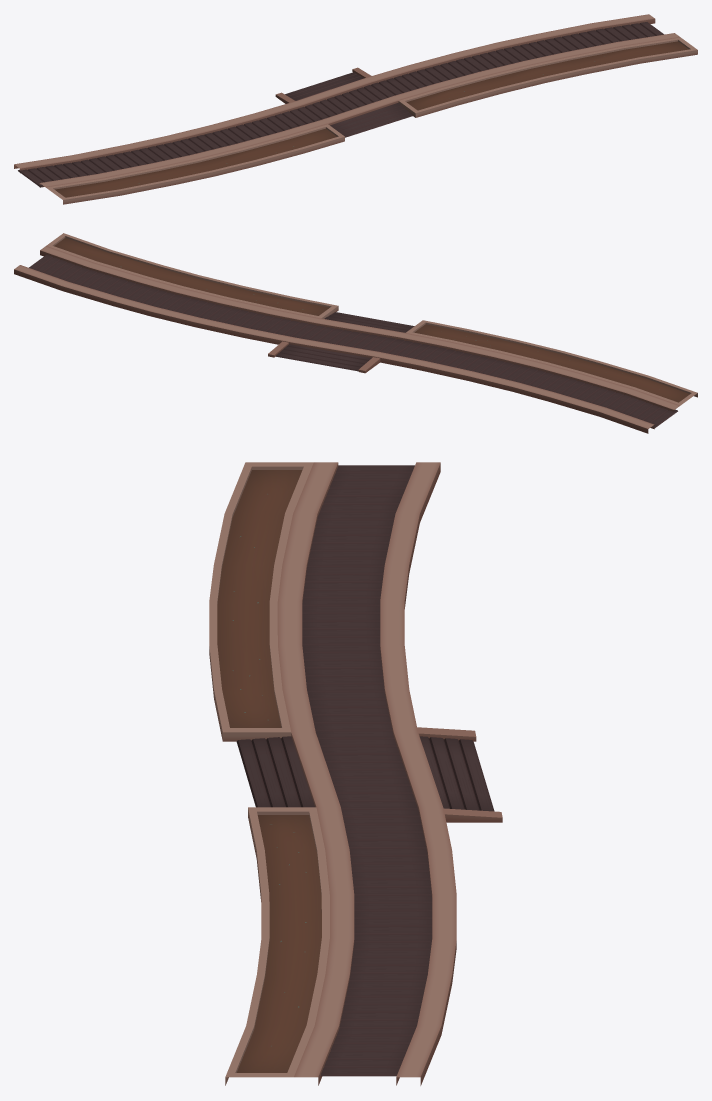
The model's file is Sidewalk.fbx.
3 views of the same model, one above another, from view 1: azimuth 30°, elevation 25°; view 2: azimuth 150°, elevation 25°; view 3: azimuth 270°, elevation 25° (orthographic). The views are drawn at different scales.
Parts seen in each view (by area): view 1: Sidewalk; view 2: Sidewalk; view 3: Sidewalk.
Boxes of the visible parts, left/top/right/bottom form: Sidewalk: left=14, top=14, right=697, bottom=204; Sidewalk: left=14, top=233, right=697, bottom=433; Sidewalk: left=209, top=462, right=502, bottom=1085.
Bounding box in the file's own units: 119 × 1.11 × 24.01.
1 material, 1 textured.
